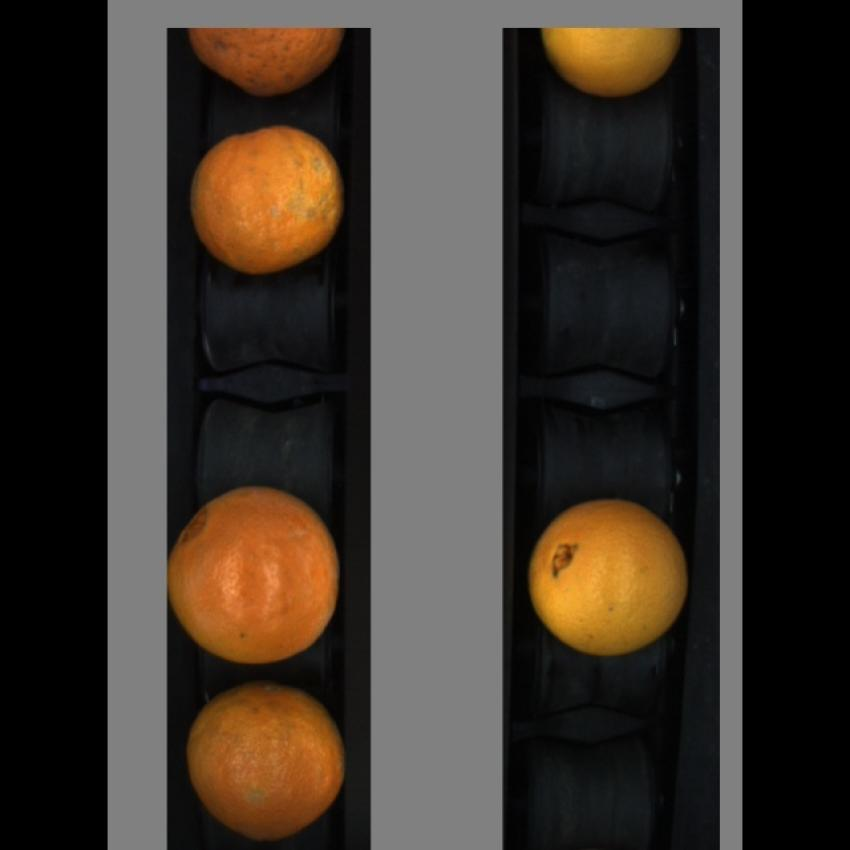Buen estado: (525, 488, 691, 658), (538, 30, 687, 99)
Mal estado: (166, 476, 340, 669), (186, 682, 348, 842), (186, 125, 349, 279), (187, 30, 349, 97)
